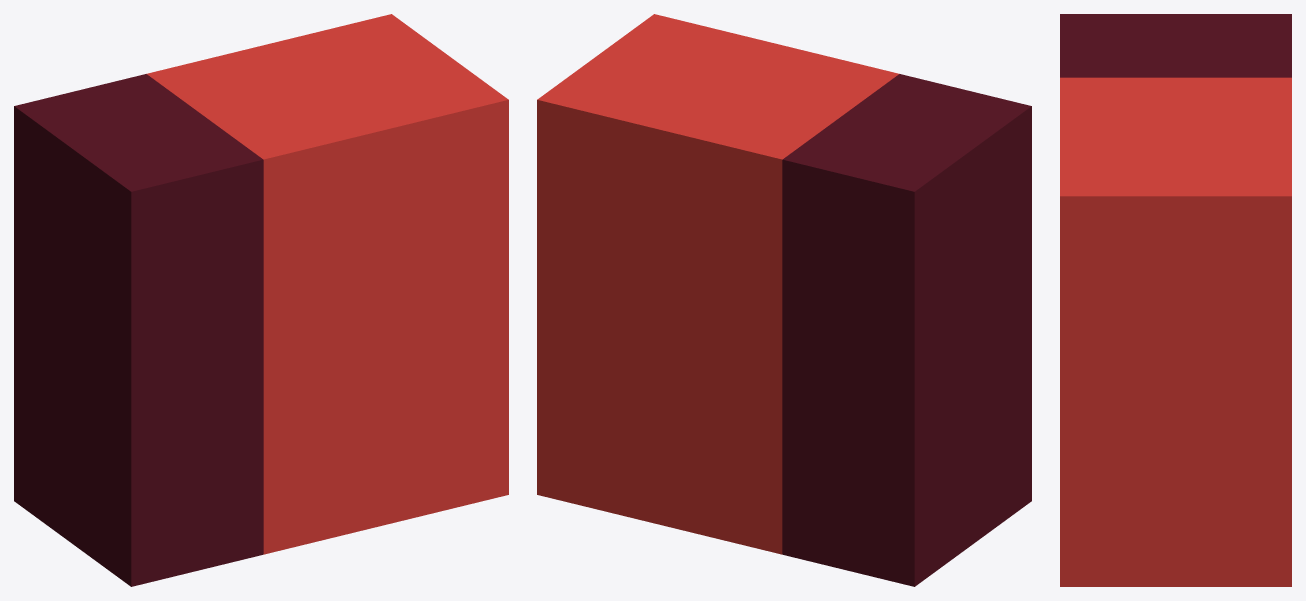
The model's file is pickup_01.glb.
3 renders of one model, left to right at view 1: azimuth 30°, elevation 25°; view 2: azimuth 150°, elevation 25°; view 3: azimuth 270°, elevation 25°, orthographic.
Parts seen in each view (by area): view 1: pickup_box; view 2: pickup_box; view 3: pickup_box.
Part boxes in pixels (x1,y1,x2,y2): pickup_box: [14, 14, 508, 586]; pickup_box: [537, 14, 1031, 586]; pickup_box: [1060, 14, 1291, 586].
Bounding box in the file's own units: 1 × 1 × 0.5375.
1 material, 1 textured.
